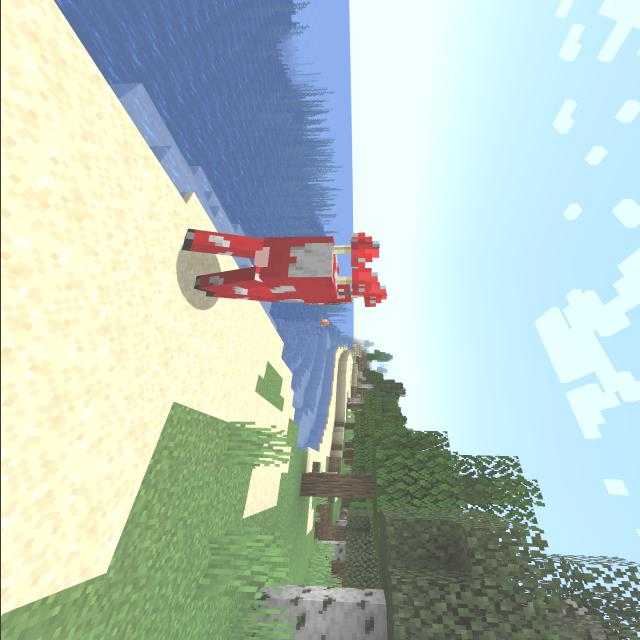Fox: (316, 317, 334, 328)
Mooshroom: (178, 225, 398, 311)
